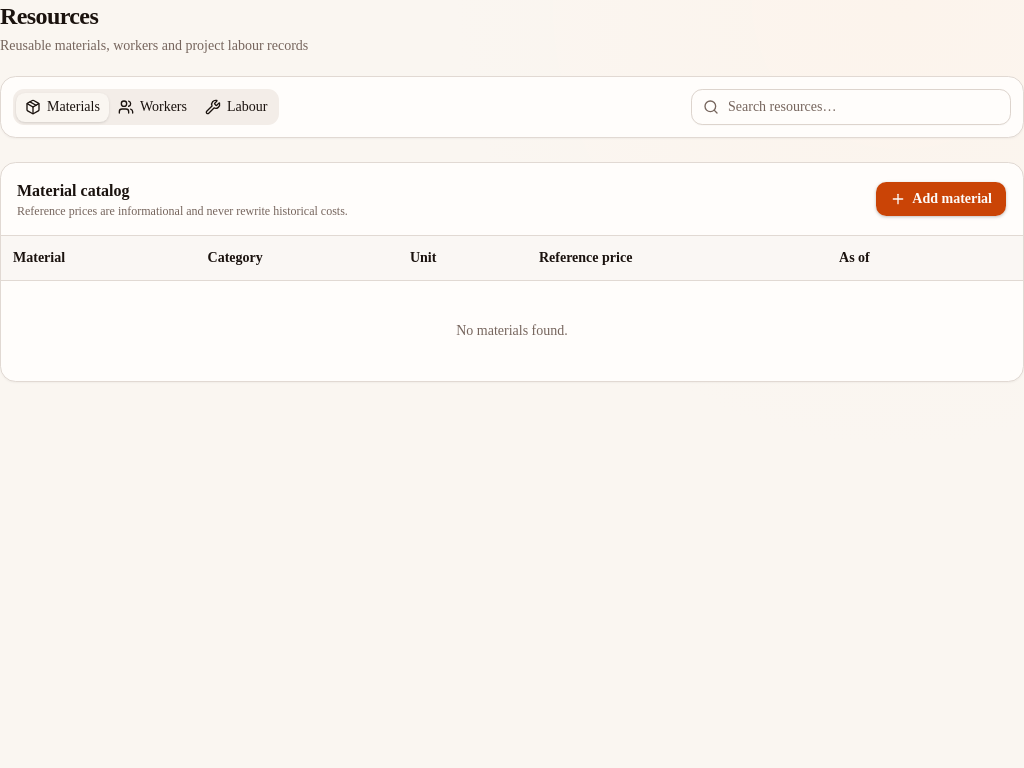
ResourcesView Log Labour tab/field synchronization › defaults to Ad-hoc active with ad-hoc fields visible, and switching tabs keeps active state and rendered fields in agreement
What coordinates should you click on to do the following:
click the tab "Labour"
I would click on:
 (236, 107)
Its box is [196,92,276,122].
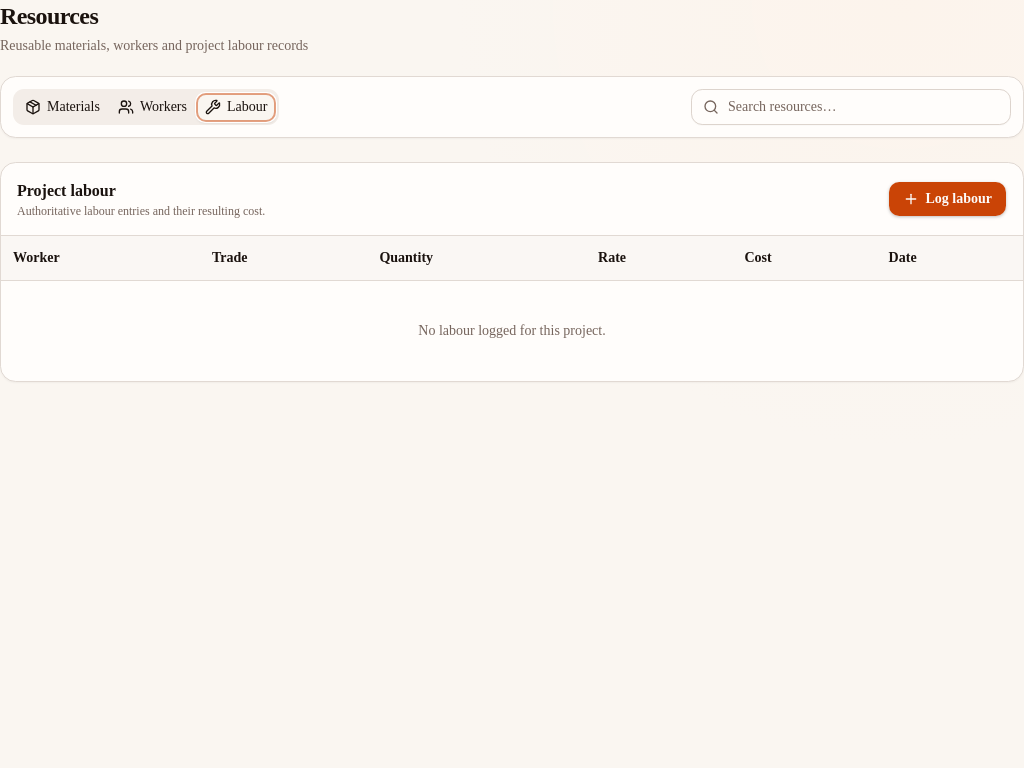
What coordinates should you click on to do the following:
click the button "Log labour"
I would click on:
 (948, 199)
Its box is [888,181,1007,217].
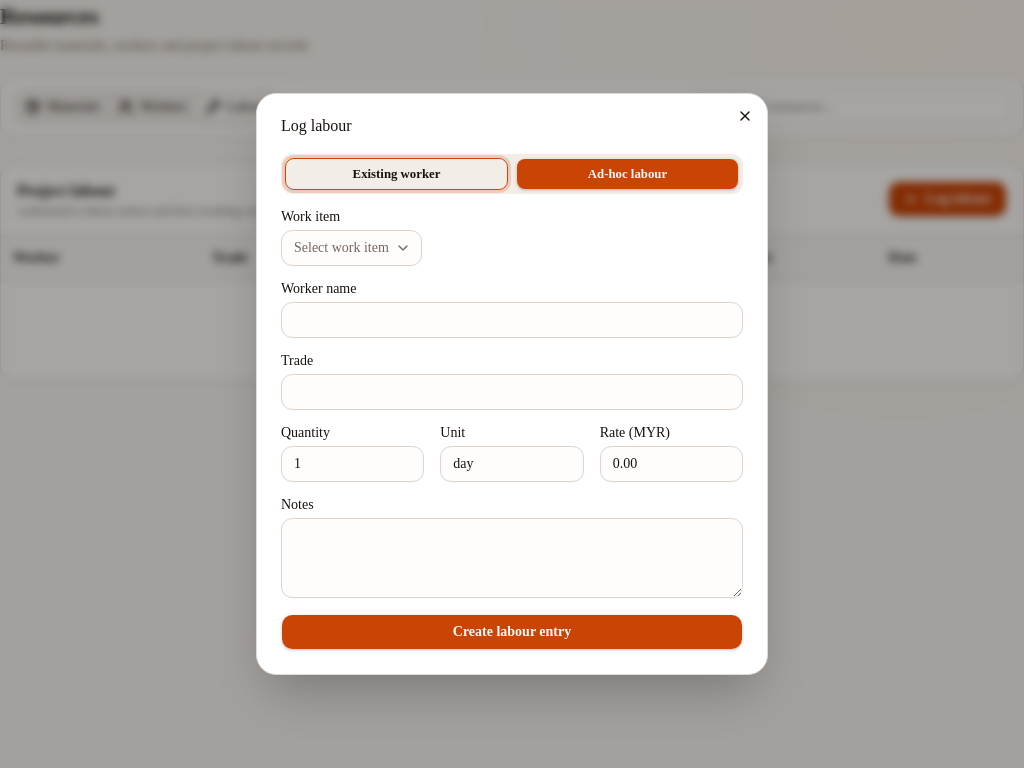
Expected: the text "select worker" is not shown
Now the field named "workerName" is shown, box [281,302,743,338]
Now the field named "trade" is shown, box [281,374,743,410]
// Switch to Existing worker — fields must flip together with the tab.
What coordinates should you click on to do the following:
click the button "Existing worker"
I would click on:
 (396, 174)
Its box is [285,158,508,190].
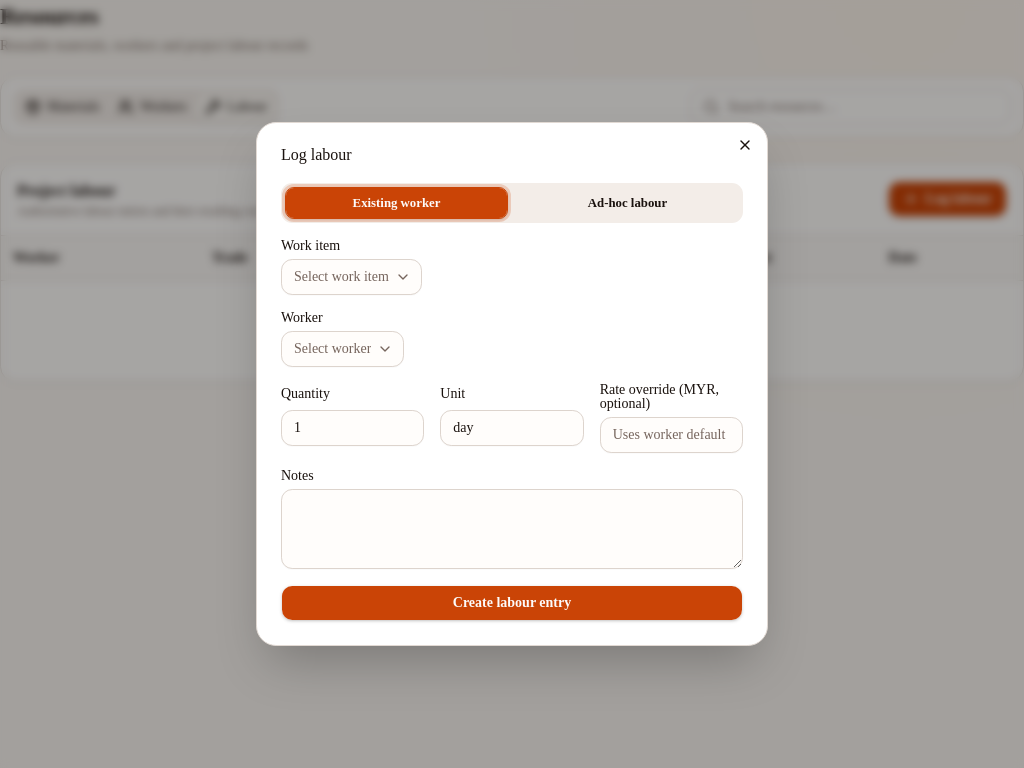
Now the text "Select worker" is shown, box [294,339,371,359]
Now the field named "workerName" is gone
Now the field named "trade" is gone
// Switch back to Ad-hoc — fields must flip back together too.
What coordinates should you click on to do the following:
click the button "Ad-hoc labour"
I would click on:
 (628, 203)
Its box is [516,187,739,219].
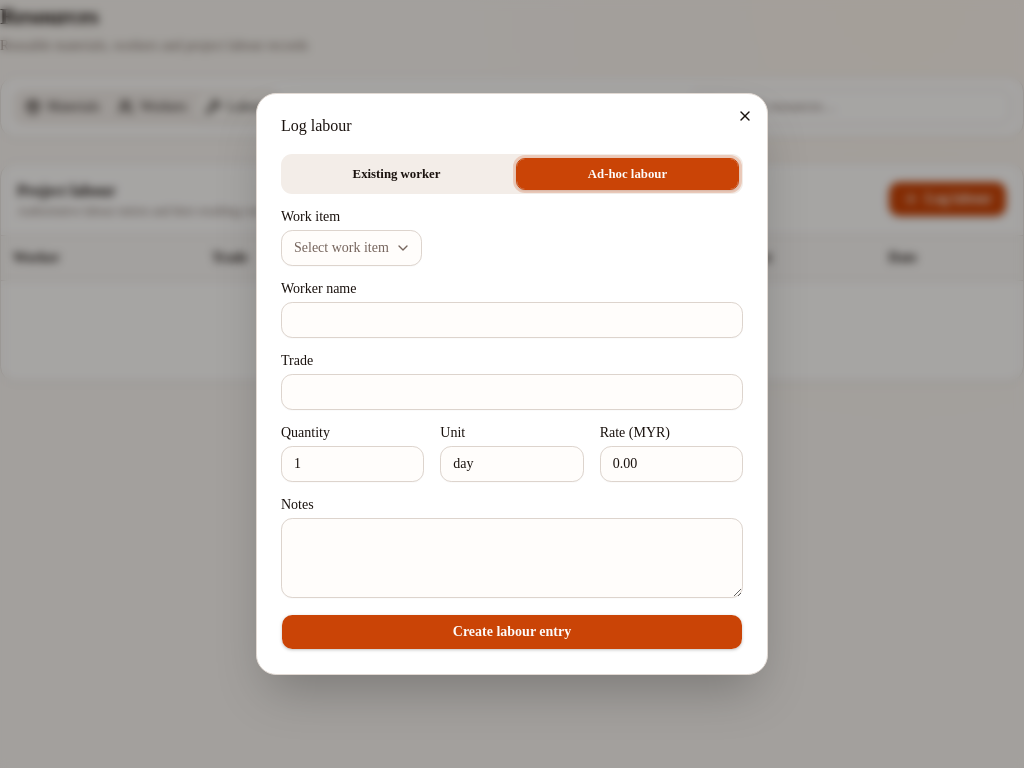
Now the field named "workerName" is shown, box [281,302,743,338]
Now the dropdown "Select worker" is gone
